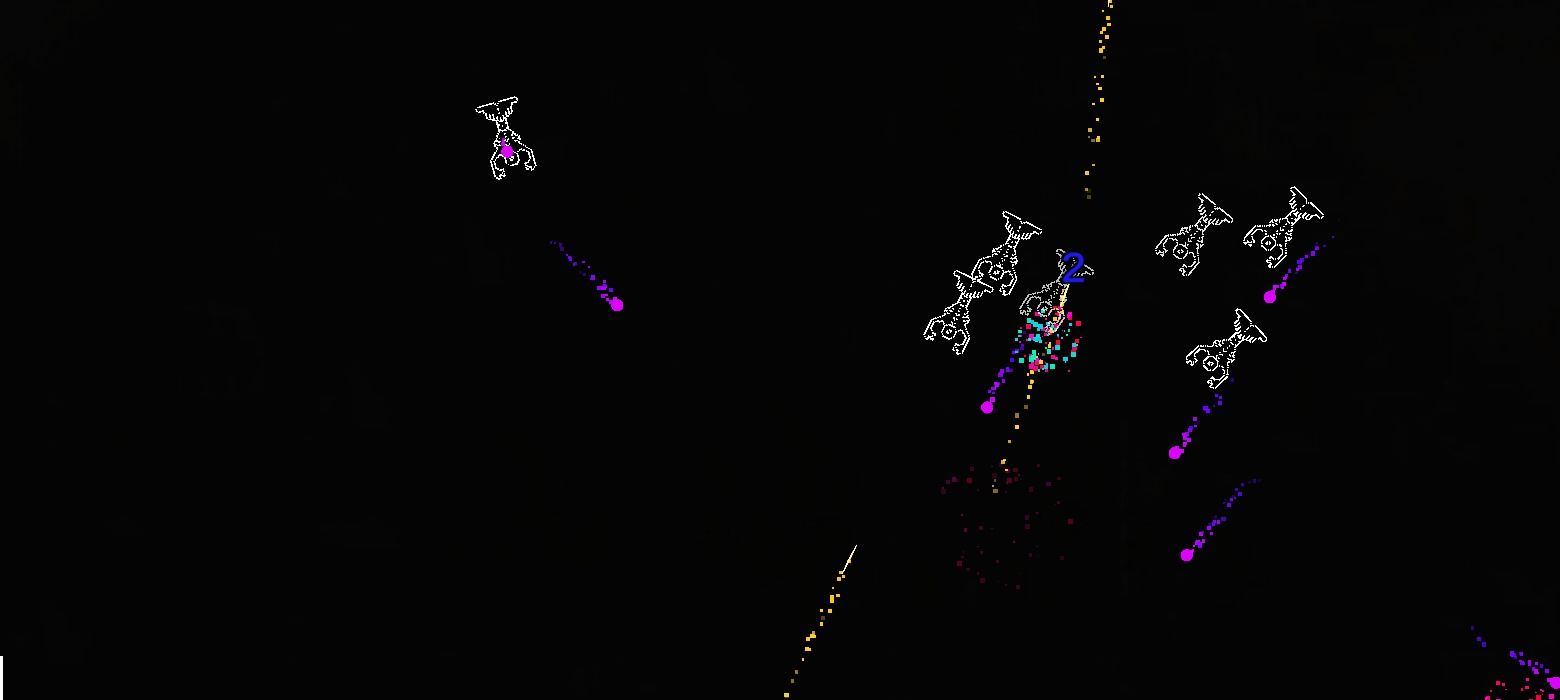enemy: (1243, 185, 1324, 269), (1154, 192, 1233, 276), (1186, 308, 1267, 389), (1019, 249, 1094, 333), (922, 270, 993, 355), (971, 211, 1042, 296), (474, 96, 537, 180)
